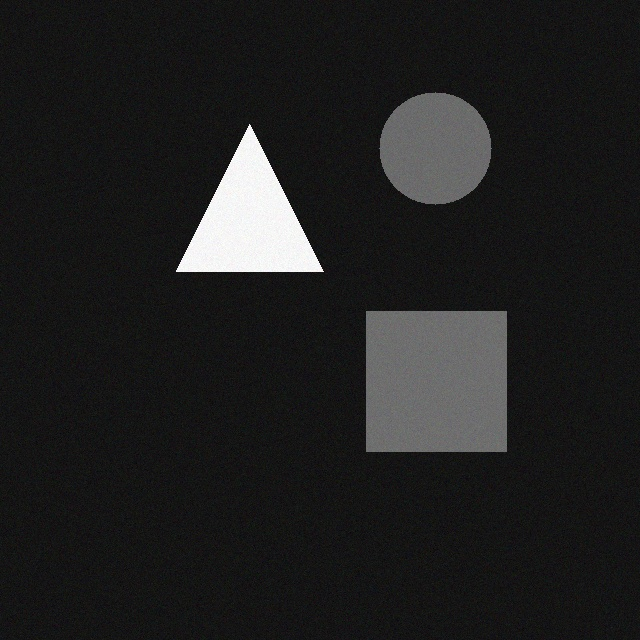circle: (393, 89, 505, 201)
square: (380, 308, 520, 448)
triangle: (190, 121, 337, 268)
